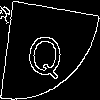Q: (24, 24, 67, 81)
